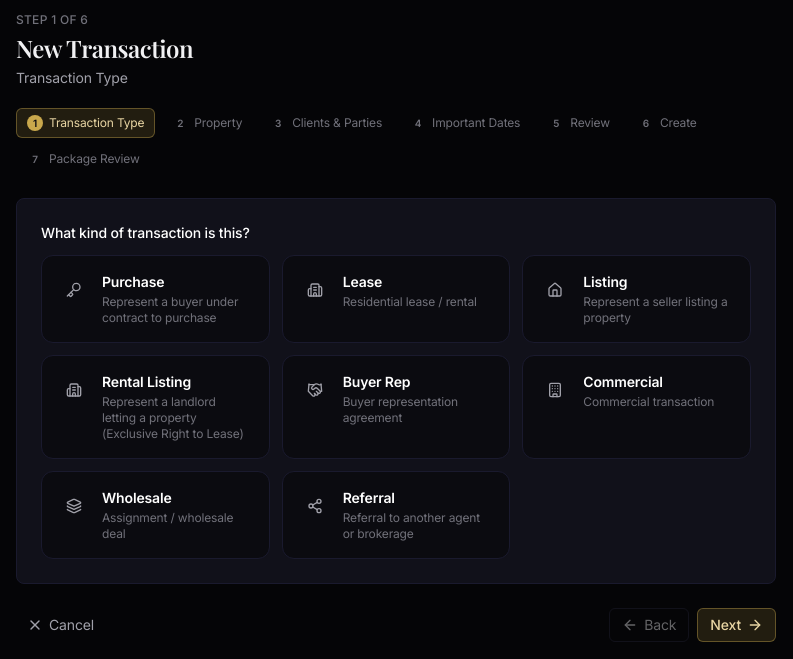
WizardShell — navigation › the Stepper jumps back to a visited step
Expected: the element with test id "wizard-step-type" is shown, x1=41 y1=223 x2=751 y2=559
Click the radio button labelled "Purchase Represent a buyer under contract to purchase" at (155, 299), box x1=41 y1=255 x2=270 y2=343
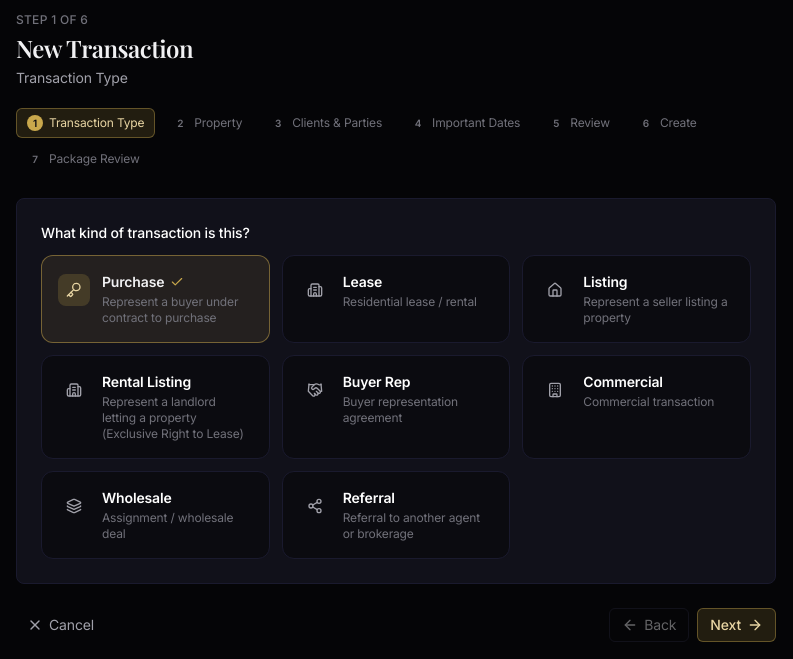
Click the button "Next" at (737, 625), box x1=697 y1=608 x2=776 y2=642
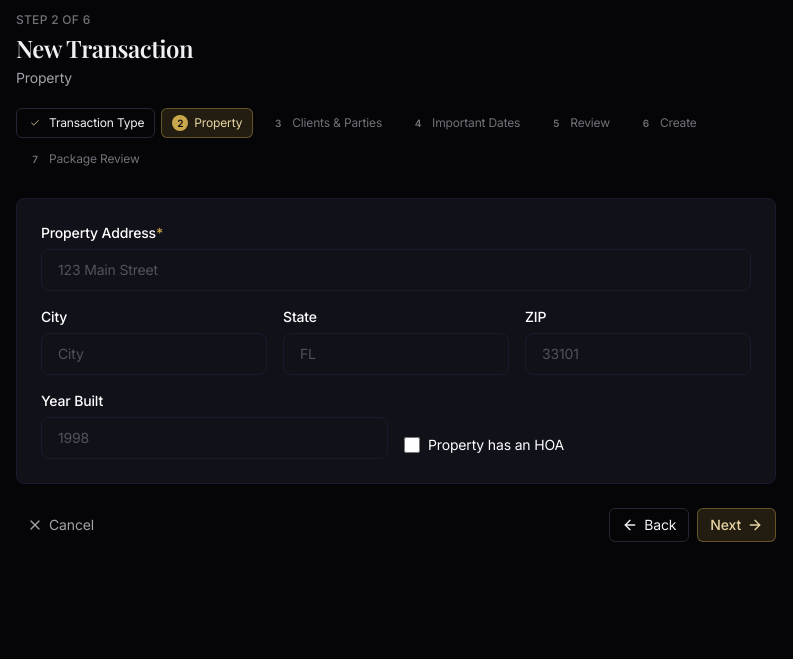
Now the element with test id "wizard-step-property" is shown, box x1=41 y1=223 x2=751 y2=459
Click the button with aria-label "Go to Transaction Type" at (86, 123), box x1=16 y1=108 x2=155 y2=138
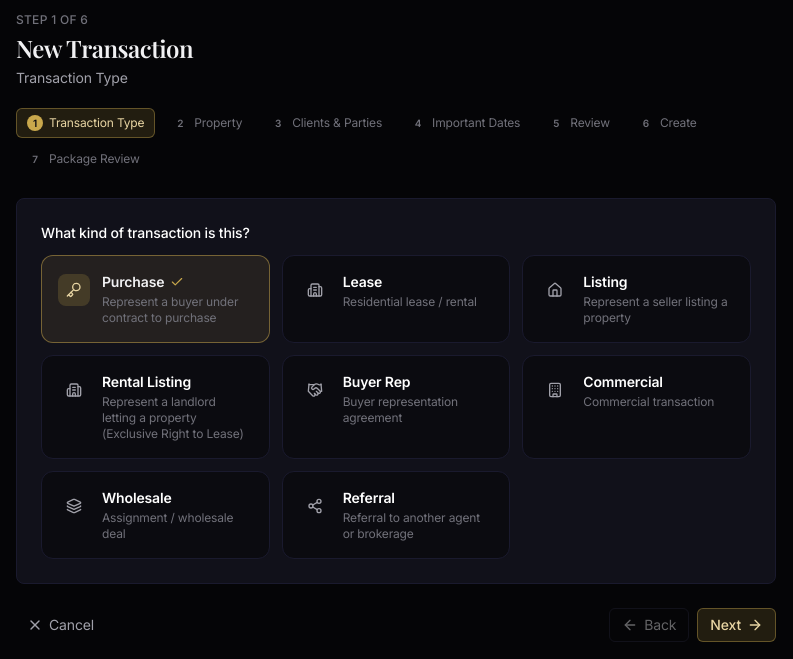
Now the element with test id "wizard-step-type" is shown, box x1=41 y1=223 x2=751 y2=559
